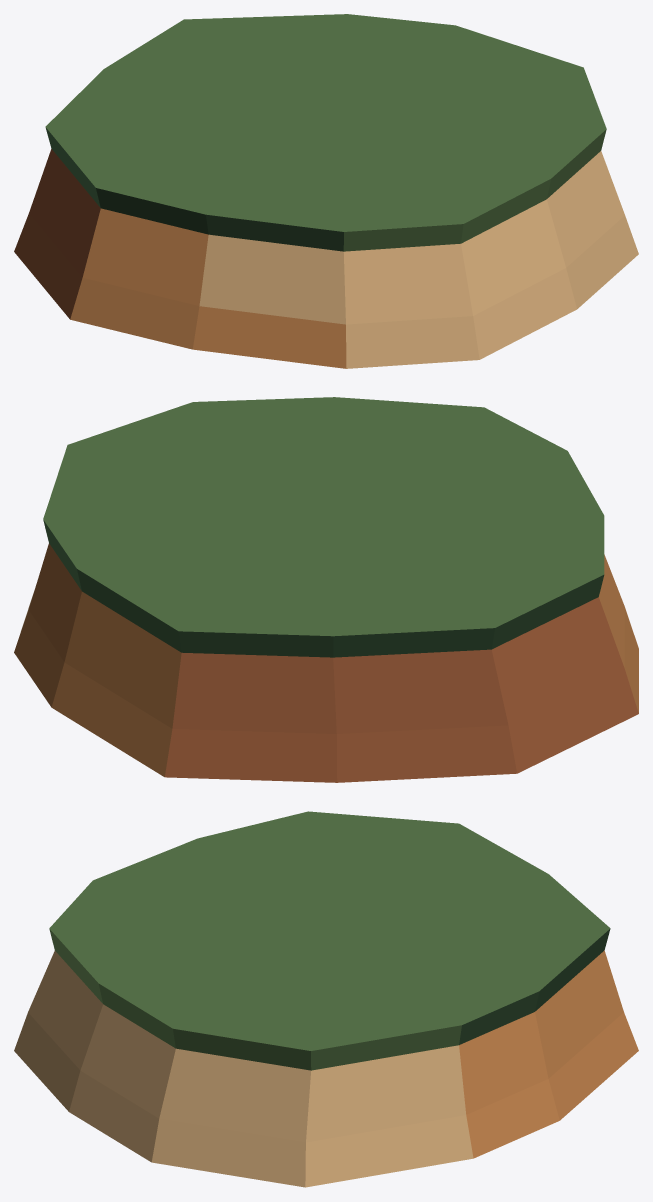
File: rock_smallA.glb
3 views of the same model, one above another, from view 1: azimuth 30°, elevation 25°; view 2: azimuth 150°, elevation 25°; view 3: azimuth 270°, elevation 25° (orthographic). The views are drawn at different scales.
Parts seen in each view (by area): view 1: rock_smallA.002; view 2: rock_smallA.002; view 3: rock_smallA.002.
Part boxes in pixels (bbox=[...]): rock_smallA.002: bbox=[14, 14, 638, 368]; rock_smallA.002: bbox=[14, 397, 638, 782]; rock_smallA.002: bbox=[14, 811, 638, 1187].
Bounding box in the file's own units: 2.4 × 0.5168 × 2.38.
